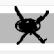not correct: (10, 6, 49, 45)
